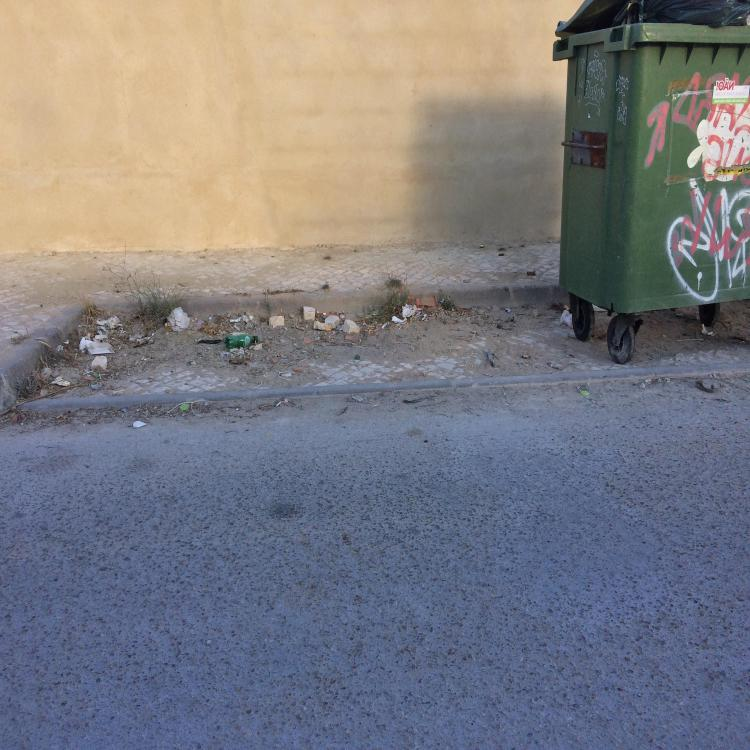Broken glass: (354, 354, 360, 358)
Cigarette: (560, 309, 573, 330), (180, 403, 189, 410), (282, 398, 288, 404), (144, 357, 152, 361), (644, 378, 652, 382)
Clear plastic bottle: (225, 333, 258, 349)
Garbage bag: (641, 0, 749, 30)
Normal paper: (402, 302, 417, 318), (197, 319, 204, 331)
Other plastic wrapper: (701, 323, 713, 335), (580, 391, 589, 396), (277, 353, 283, 357)
Unlabeled litter: (95, 316, 122, 328), (51, 376, 69, 385), (133, 420, 147, 429), (392, 315, 406, 323), (230, 317, 241, 322), (55, 345, 63, 351), (381, 324, 388, 330), (56, 414, 62, 420)
